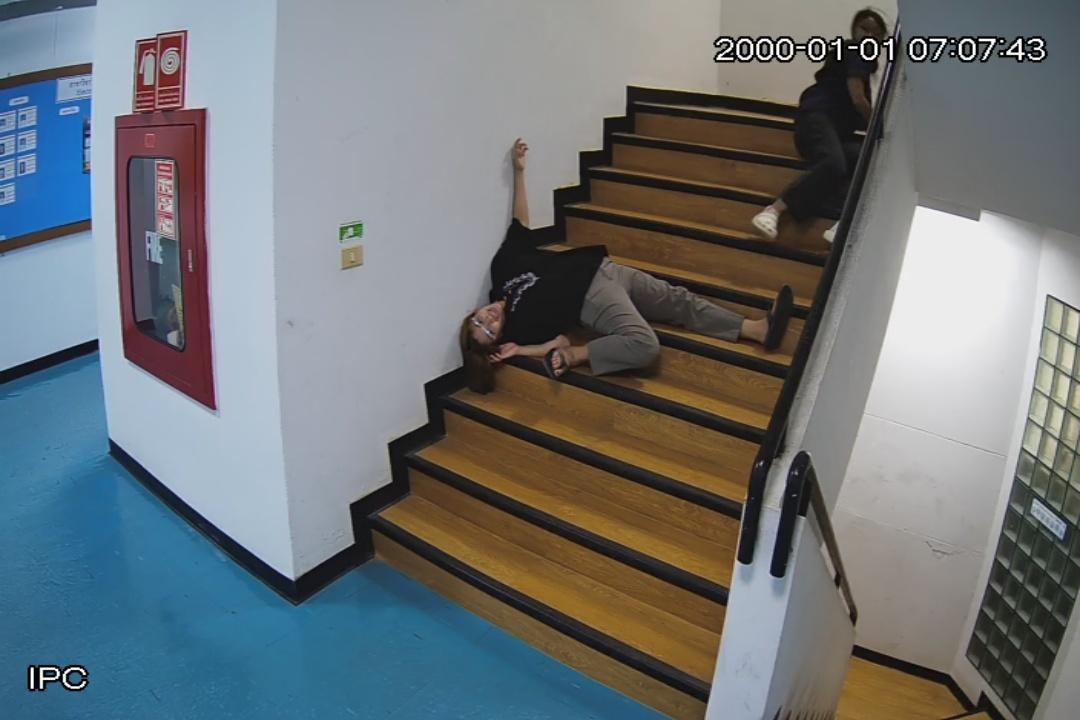fall: (464, 141, 802, 398), (754, 8, 894, 242)
